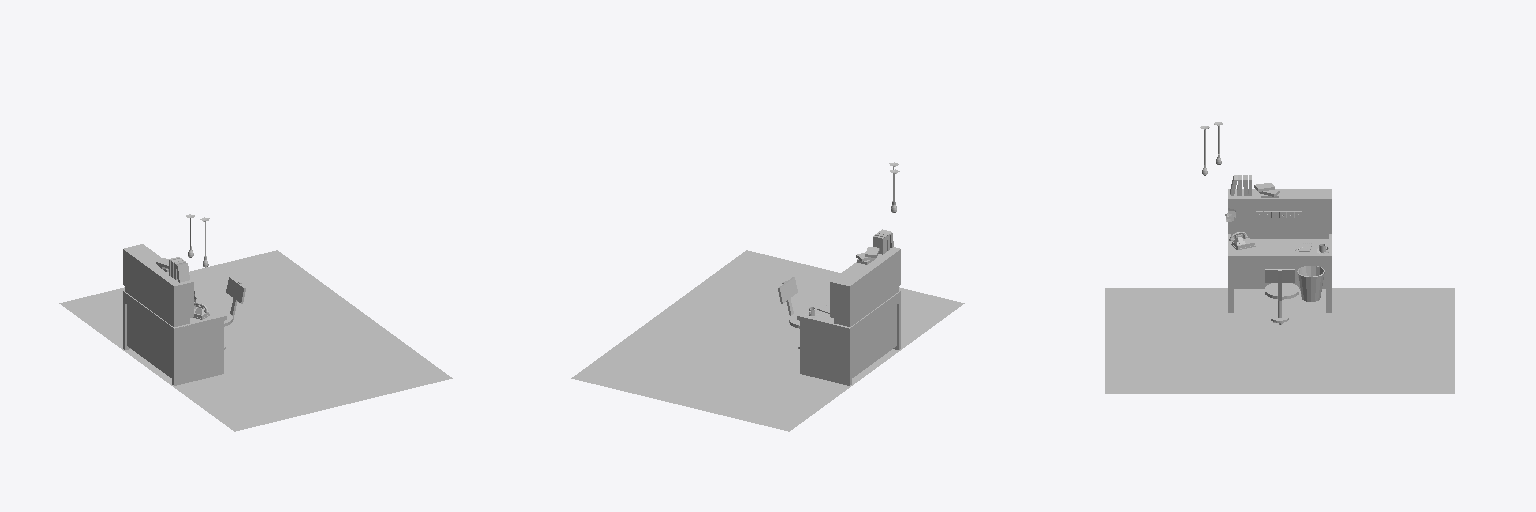
Rendered from switchboardRoom_mesh.obj.
3 views of the same model, side by side, from view 1: azimuth 30°, elevation 25°; view 2: azimuth 150°, elevation 25°; view 3: azimuth 270°, elevation 25° (orthographic).
Visible parts, largest first — view 1: testScene_meshes floor, testScene_meshes desk, testScene_meshes books; view 2: testScene_meshes floor, testScene_meshes desk, testScene_meshes books, testScene_meshes chair; view 3: testScene_meshes floor, testScene_meshes desk, testScene_meshes chair, testScene_meshes trashCan, testScene_meshes books.
Boxes of the visible parts, <box> form: testScene_meshes floor: <box>59,250,452,431</box>; testScene_meshes desk: <box>123,244,226,385</box>; testScene_meshes books: <box>156,257,189,282</box>; testScene_meshes floor: <box>571,250,964,431</box>; testScene_meshes desk: <box>797,247,900,385</box>; testScene_meshes books: <box>856,229,893,264</box>; testScene_meshes chair: <box>778,277,801,348</box>; testScene_meshes floor: <box>1105,288,1454,393</box>; testScene_meshes desk: <box>1228,189,1331,312</box>; testScene_meshes chair: <box>1265,269,1298,324</box>; testScene_meshes trashCan: <box>1297,266,1324,301</box>; testScene_meshes books: <box>1230,175,1279,197</box>.
Size of the model in its own units: 4.21 by 3.15 by 5.85.